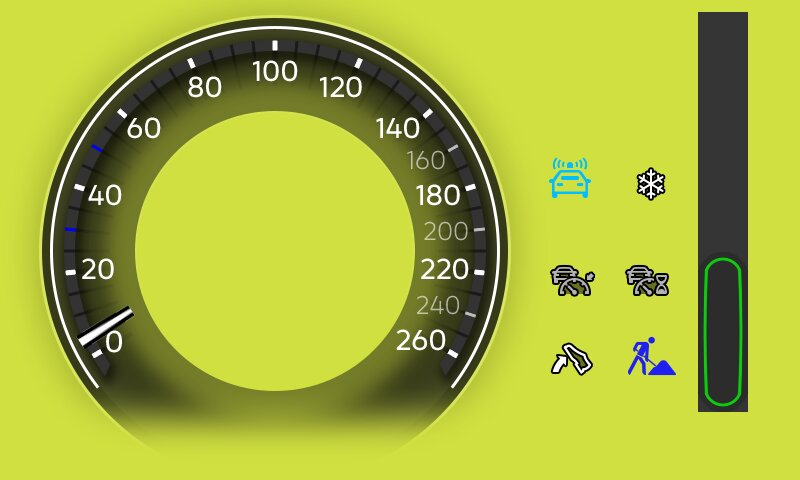ACCELERATOR: (543, 337, 601, 387)
ACC_AKTIV: (536, 253, 603, 304)
ACC_WAITING: (613, 254, 683, 310)
CONSTRUCTION: (618, 333, 683, 382)
EISSTERN: (627, 158, 676, 210)
SEV_INF: (535, 151, 608, 214)
SLIDER: (698, 252, 750, 414)
TUBE: (21, 15, 522, 475)
